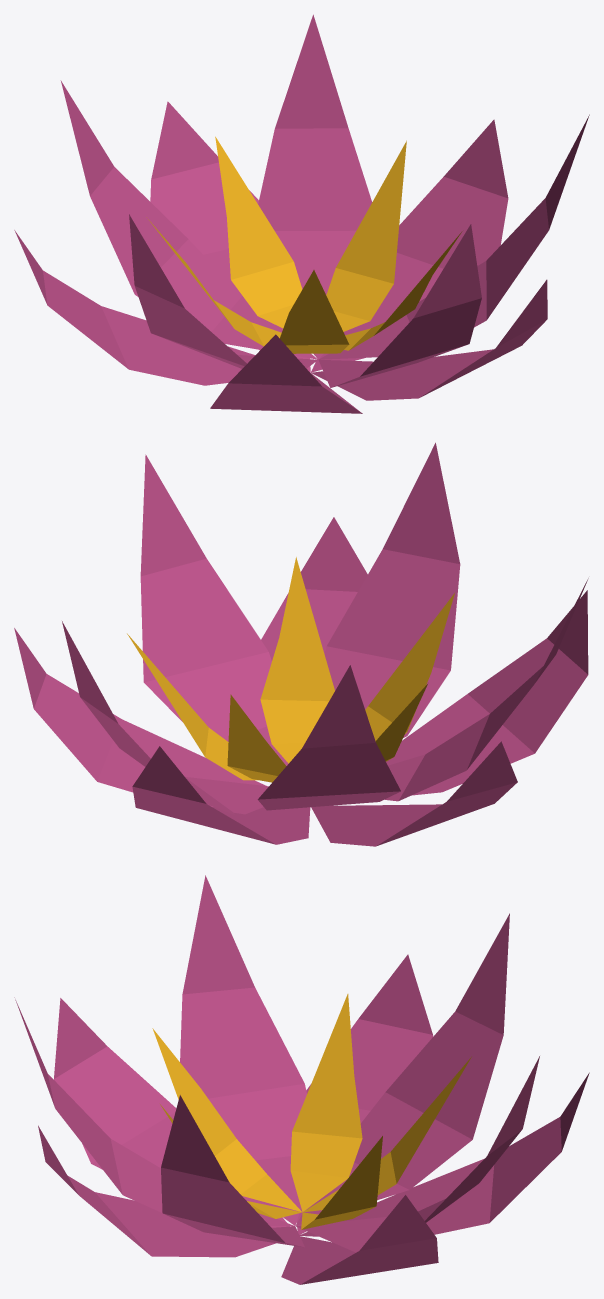
Rendered from enchantedforest_lilypad_2.fbx.
3 views of the same model, one above another, from view 1: azimuth 30°, elevation 25°; view 2: azimuth 150°, elevation 25°; view 3: azimuth 270°, elevation 25° (orthographic). The views are drawn at different scales.
Visible parts, largest first — view 1: Plane.012; view 2: Plane.012; view 3: Plane.012.
Boxes of the visible parts, x1,y1,x2,y2 form: Plane.012: (14,14,589,413); Plane.012: (14,442,588,846); Plane.012: (14,875,589,1284).
Size of what is drawn, in the model's own units: 0.2312 by 0.1158 by 0.2399.
